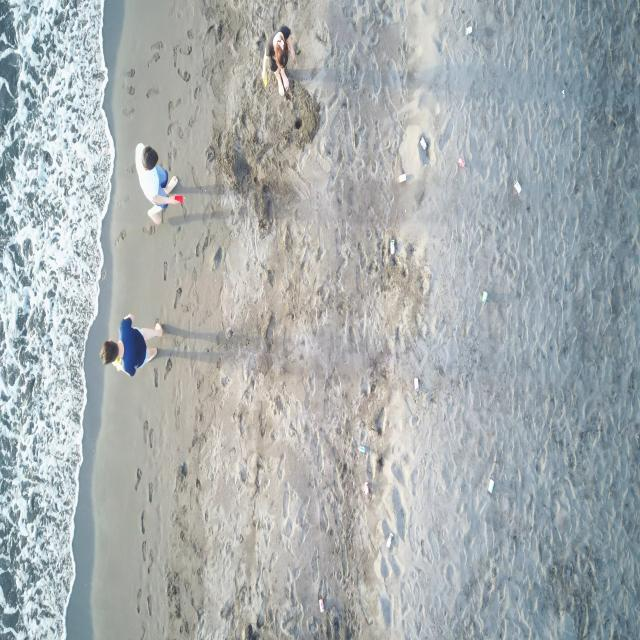Garbage: (420, 135, 428, 164), (388, 238, 395, 255), (420, 135, 427, 150), (512, 180, 520, 193), (412, 376, 419, 390), (480, 289, 487, 303), (261, 71, 267, 87), (464, 24, 472, 35), (386, 533, 392, 547), (357, 444, 367, 452), (173, 195, 183, 203), (457, 156, 464, 167), (487, 477, 492, 492), (319, 597, 324, 612), (362, 483, 368, 495), (397, 173, 407, 180), (560, 88, 563, 96)
